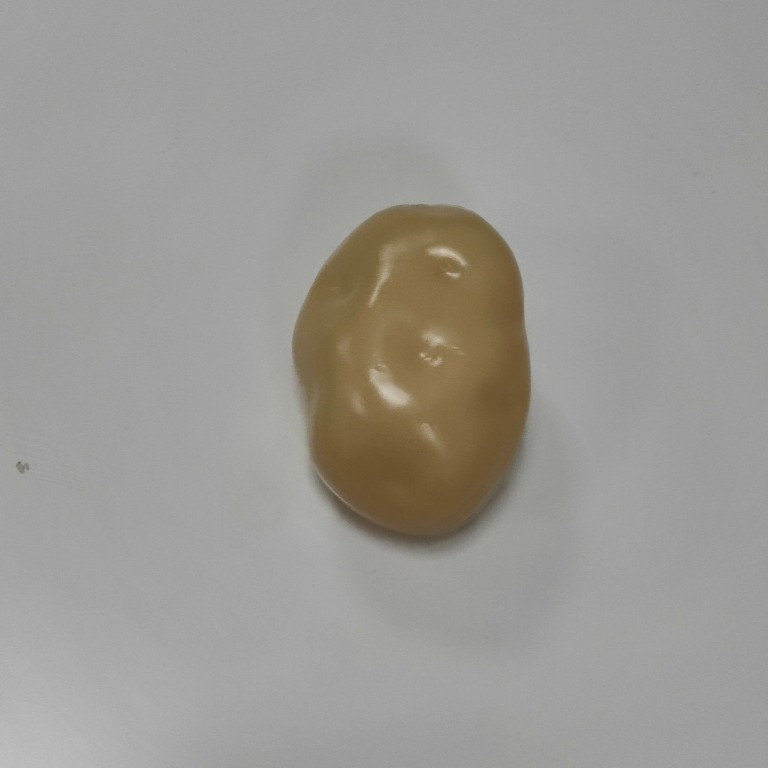fruit_potato: (287, 200, 535, 542)
